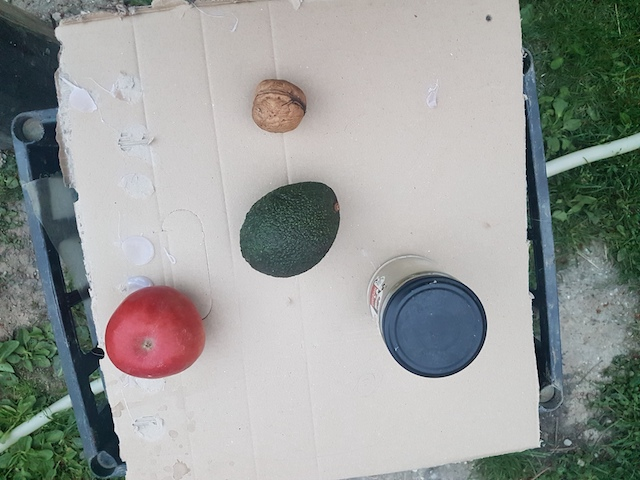apple: (105, 281, 209, 378)
avocado: (239, 177, 344, 278)
nut: (248, 78, 310, 135)
recipient: (375, 276, 494, 386)
